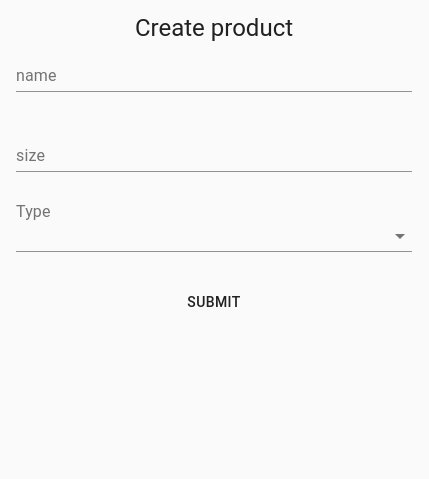
Scenario: <Form /> › when the user submits the form without values › should display validation messages
Expected: the text "the name is required" is not shown
Expected: the text "the size is required" is not shown
Click the button "Submit" at {"x": 214, "y": 302}, box x1=16 y1=284 x2=412 y2=320
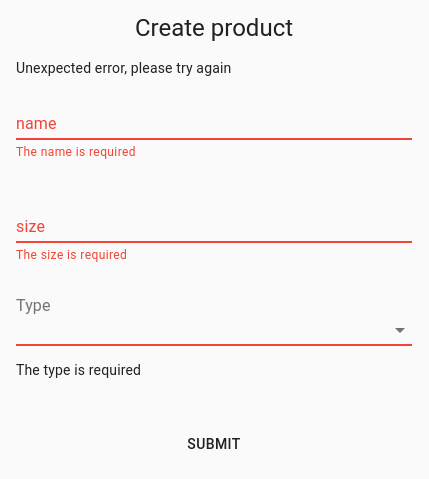
Result: the text "The name is required" is shown at x1=16 y1=145 x2=136 y2=159
Result: the text "The size is required" is shown at x1=16 y1=248 x2=127 y2=262
Result: the text "The type is required" is shown at x1=16 y1=362 x2=141 y2=378
